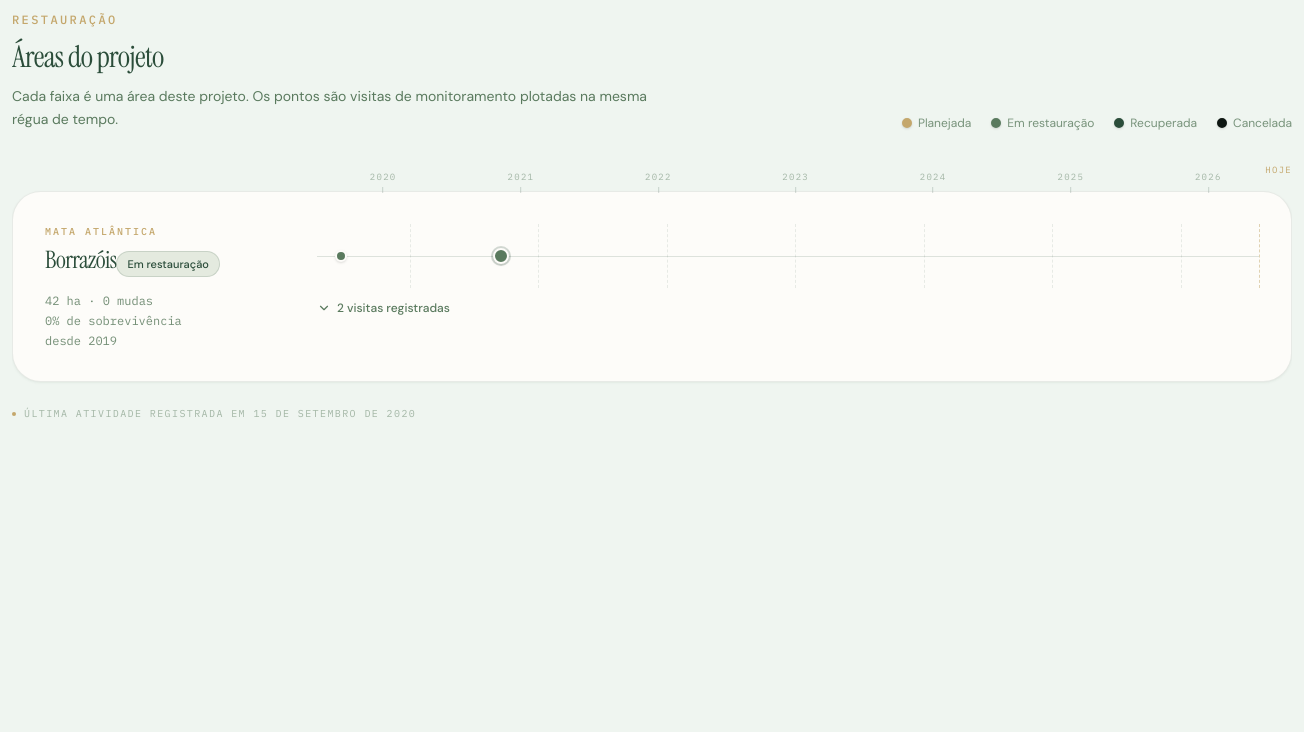
Test case: ProjectAreas › lista os monitoramentos recentes da área na timeline
Click the button "2 visitas registradas" at (383, 308), box [317,300,450,316]
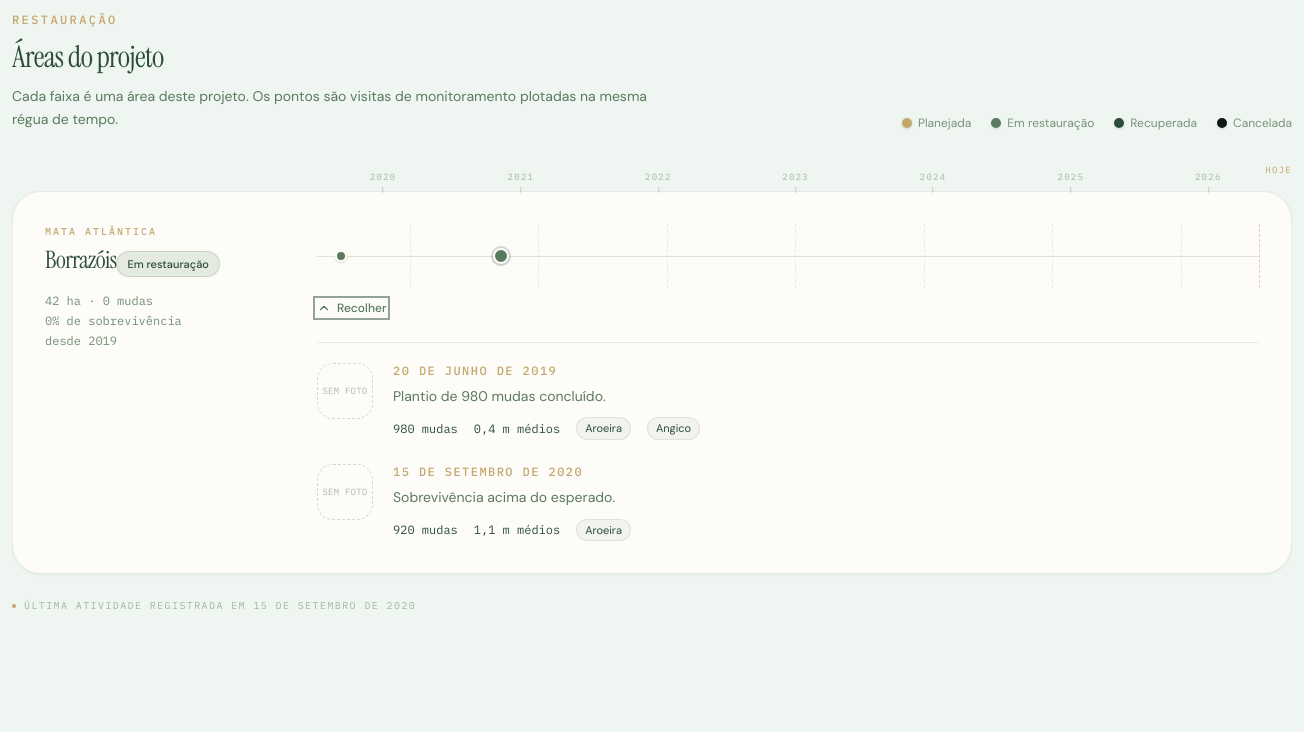
expect the text "Plantio de 980 mudas concluído." is shown: met, box [393,386,606,404]
expect the text "Sobrevivência acima do esperado." is shown: met, box [393,488,615,506]
